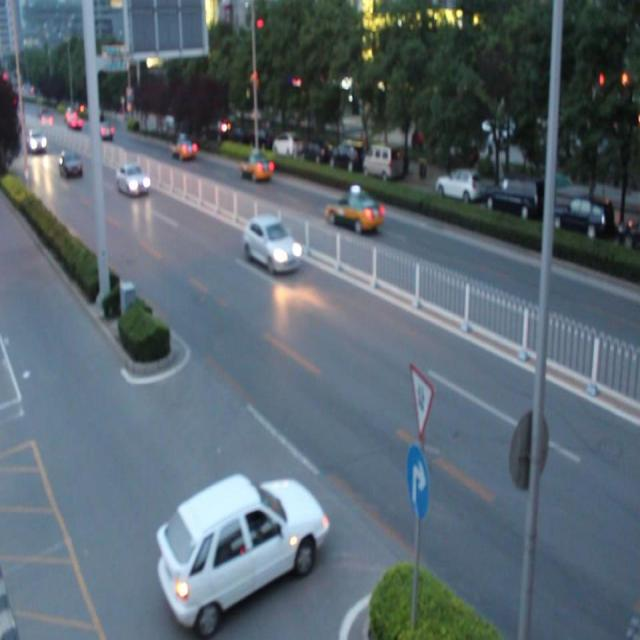car: (157, 474, 327, 623), (245, 217, 301, 276), (328, 193, 382, 234), (238, 150, 275, 185), (116, 162, 150, 197), (172, 133, 198, 162)
